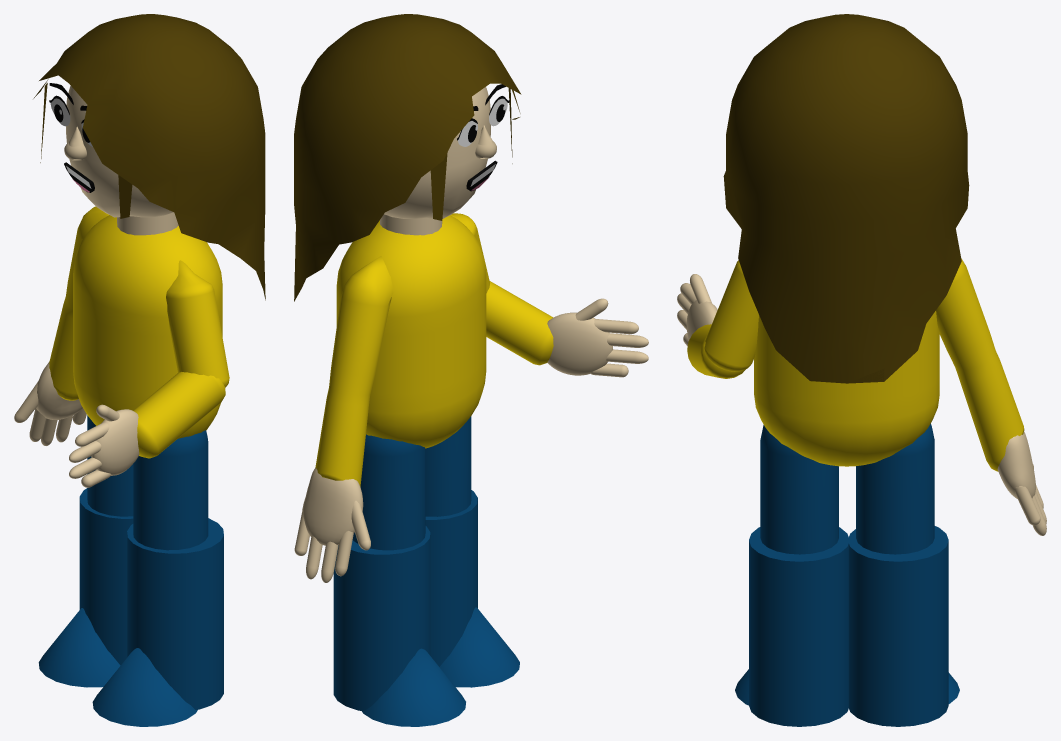
File: Girl_In_Yellow.gltf
The picture shows the model from 3 angles, left to right: view 1: azimuth 30°, elevation 25°; view 2: azimuth 150°, elevation 25°; view 3: azimuth 270°, elevation 25°; orthographic projection. The views are drawn at different scales.
Visible parts, largest first — view 1: pCylinder34, pCylinder12, pCylinder18, pCylinder14, pCylinder17, pCylinder15, pCone4, pCylinder35, pCone5, pCylinder5, pCylinder16, pSphere1 (+6 smaller); view 2: pCylinder34, pCylinder12, pCylinder17, pCylinder16, pCylinder13, pCylinder18, pCone5, pCylinder5, pCone4, pCylinder35, pCylinder14, pSphere4 (+4 smaller); view 3: pCylinder34, pCylinder17, pCylinder18, pCylinder12, pCylinder16, pCylinder13, pCylinder14, pCylinder15, pSphere4, pCylinder35, pSphere1.
Part boxes in pixels (box(x1,y1,x2,y2)): pCylinder34: box(33, 14, 265, 300); pCylinder12: box(73, 215, 222, 438); pCylinder18: box(127, 518, 223, 709); pCylinder14: box(133, 430, 208, 550); pCylinder17: box(79, 488, 133, 665); pCylinder15: box(166, 260, 229, 387); pCone4: box(92, 648, 197, 726); pCylinder35: box(133, 372, 225, 458); pCone5: box(38, 608, 120, 687); pCylinder5: box(66, 86, 173, 217); pCylinder16: box(49, 206, 109, 400); pSphere1: box(91, 409, 139, 475); pCylinder34: box(294, 14, 521, 301); pCylinder12: box(336, 215, 486, 448); pCylinder17: box(333, 526, 430, 711); pCylinder16: box(315, 256, 393, 486); pCylinder13: box(352, 434, 425, 550); pCylinder18: box(425, 490, 477, 666); pCone5: box(362, 648, 465, 726); pCylinder5: box(384, 87, 490, 218); pCone4: box(439, 607, 519, 687); pCylinder35: box(486, 281, 553, 365); pCylinder14: box(425, 416, 471, 516); pSphere4: box(302, 468, 363, 545); pCylinder34: box(723, 14, 969, 383); pCylinder17: box(848, 526, 948, 726); pCylinder18: box(749, 527, 849, 726); pCylinder12: box(754, 311, 939, 466); pCylinder16: box(936, 258, 1024, 471); pCylinder13: box(856, 423, 934, 554); pCylinder14: box(760, 425, 838, 554); pCylinder15: box(704, 260, 758, 371); pSphere4: box(997, 431, 1035, 498); pCylinder35: box(687, 324, 745, 378); pSphere1: box(686, 300, 717, 340).
Bounding box in the file's own units: 0.0554 × 0.1328 × 0.0653.
